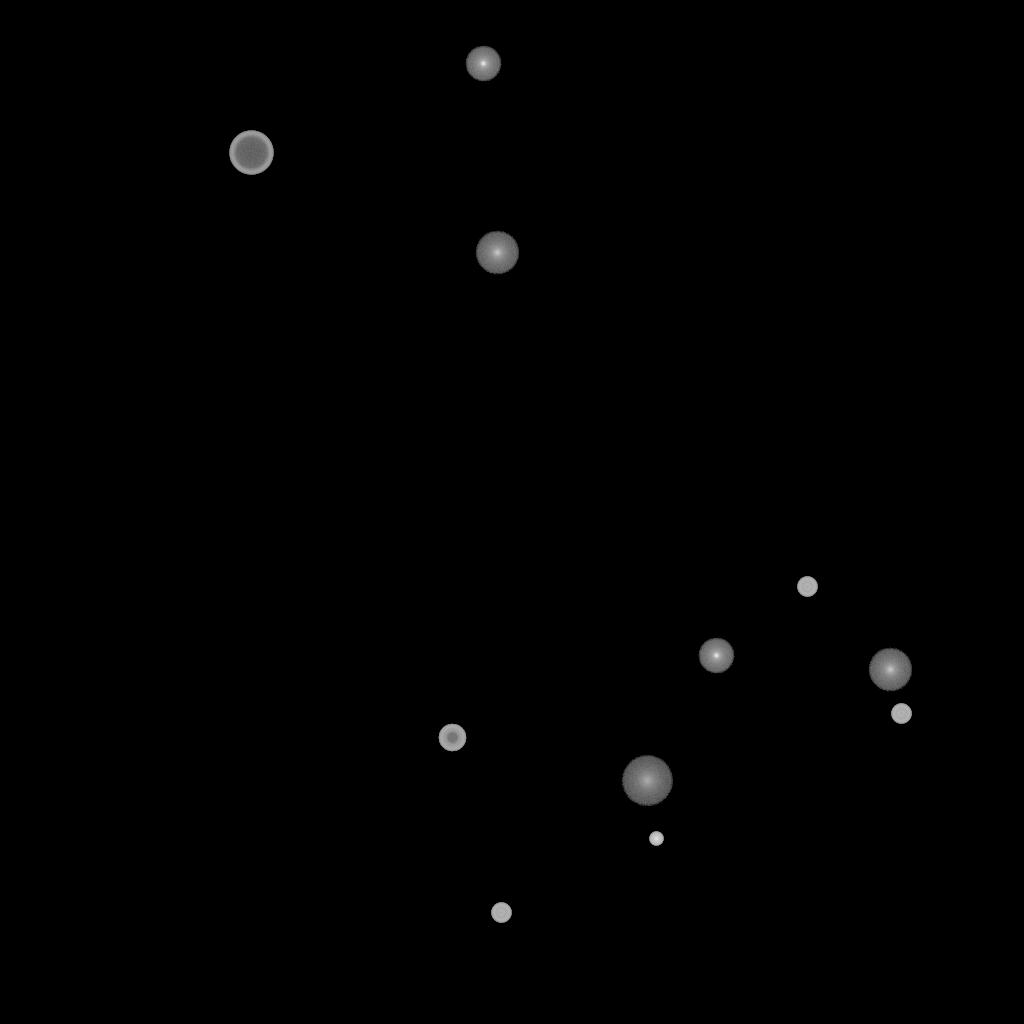depth:-30: (649, 832, 663, 846)
depth:-40: (797, 577, 817, 597), (891, 704, 911, 724), (491, 903, 511, 923)
depth:-50: (438, 724, 466, 752)
depth:-70: (229, 131, 273, 175)
depth:0: (698, 638, 734, 674), (465, 46, 501, 82)
depth:10: (868, 648, 912, 692), (475, 231, 519, 275)
depth:20: (621, 756, 673, 806)
